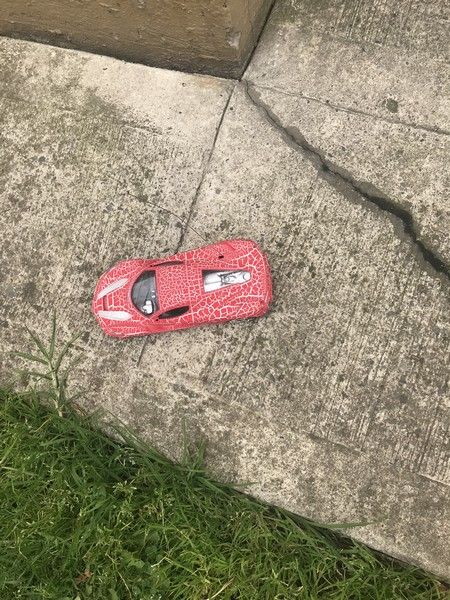RC: (96, 240, 269, 339)
